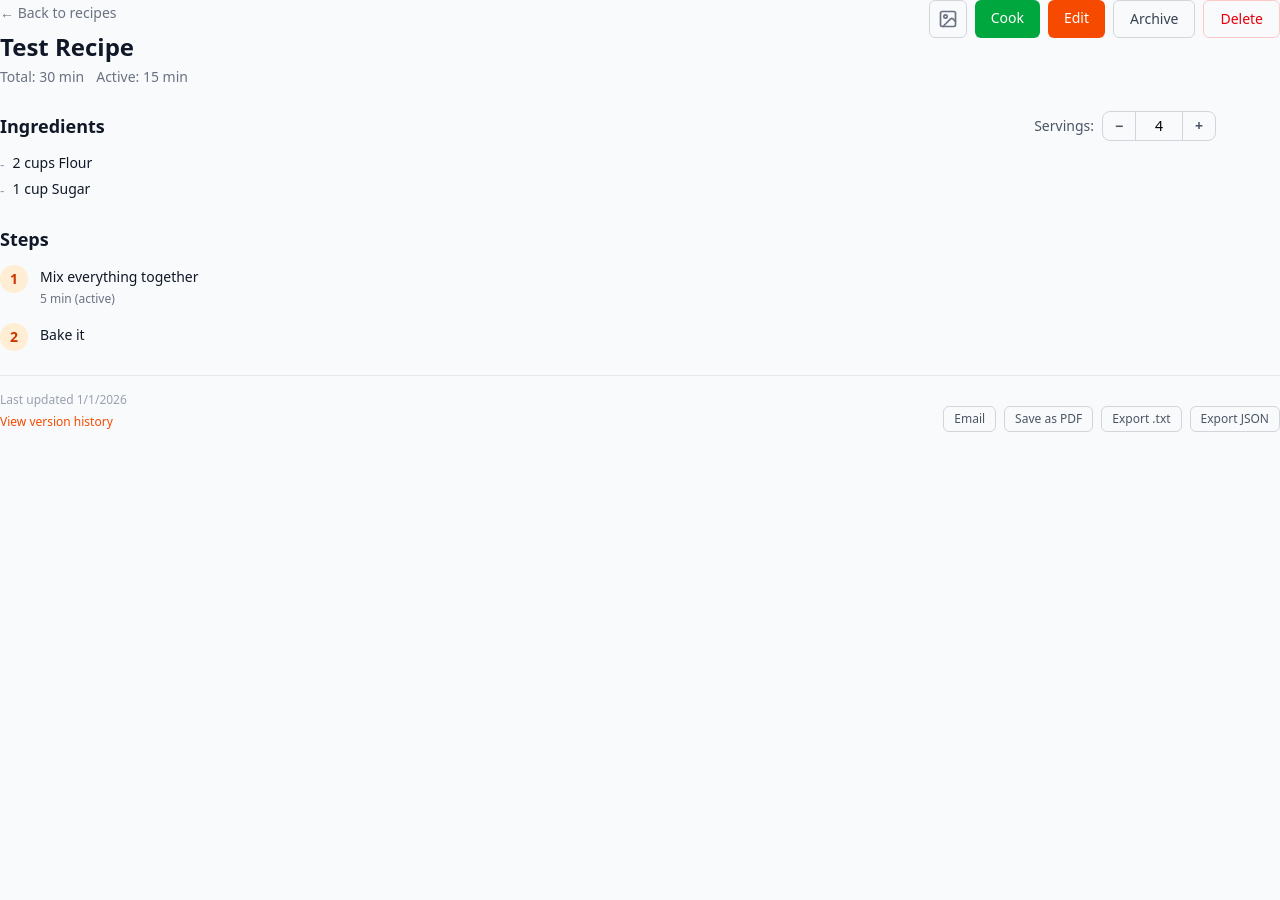
Test case: RecipeDetailPage › opens the delete confirmation modal
Click the button "Delete" at (1242, 19), box [1203,0,1279,38]
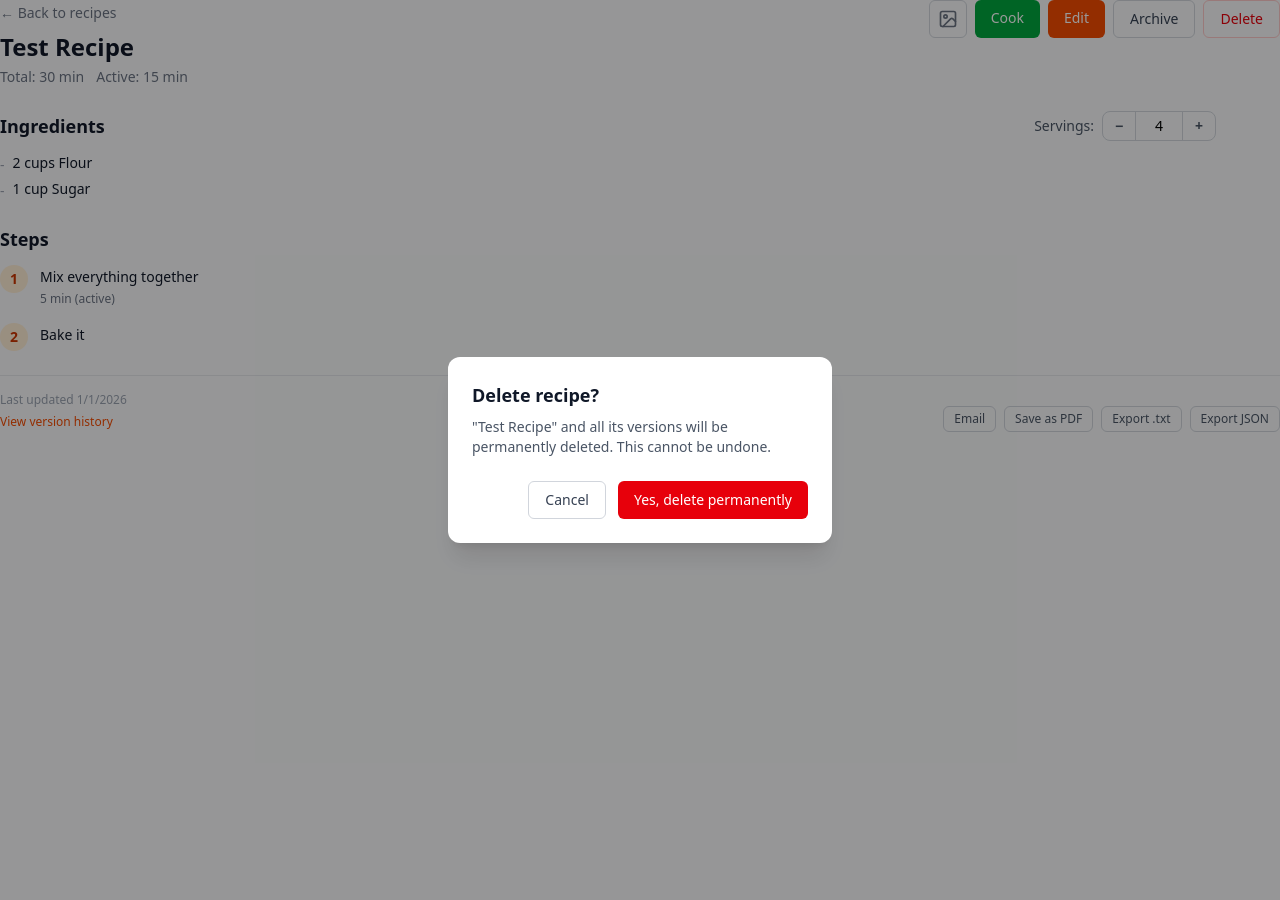
Now the heading "Delete recipe?" is shown, box [472,383,599,407]
